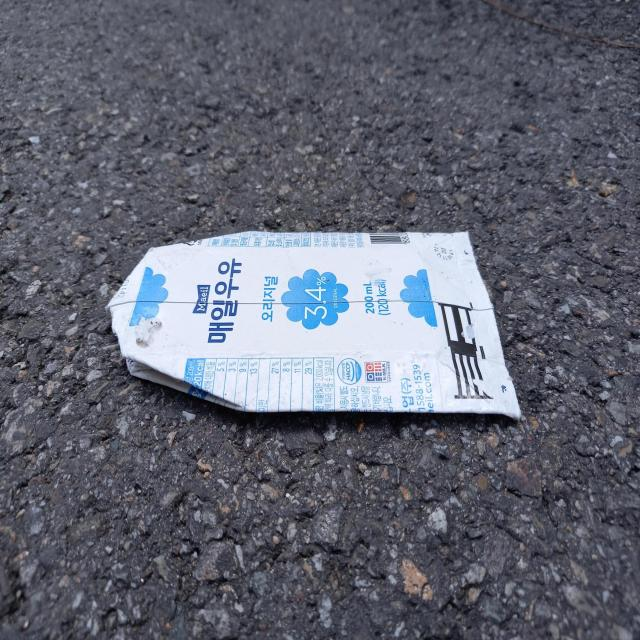paperpack: (108, 231, 522, 418)
